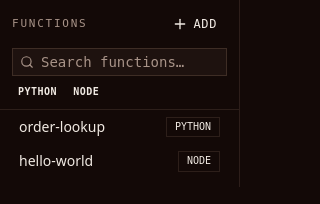
Test case: shows only that language when its chip is clicked
Click the button "python" at coordinates (38, 92), box 12,82 -> 63,101
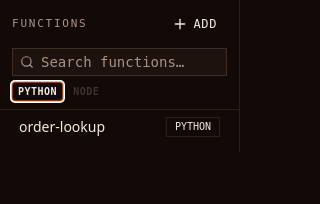
Check: the text "order-lookup" is shown, box 19,117 -> 105,137
Check: the button "hello-world" is gone
